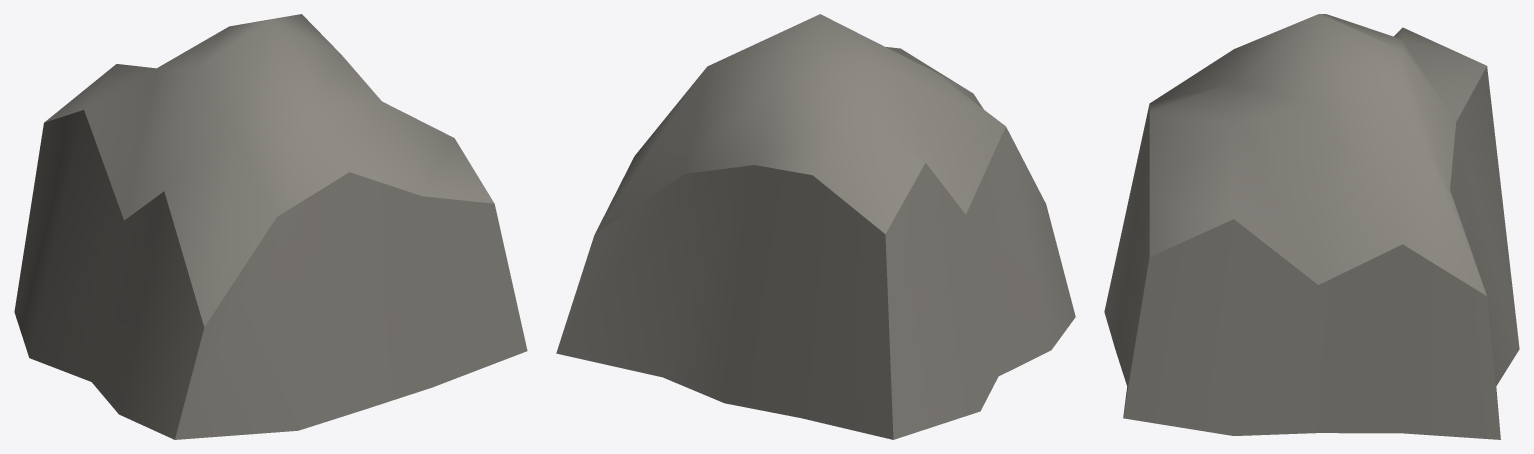
Rendered from Rock3.FBX.
3 views of the same model, side by side, from view 1: azimuth 30°, elevation 25°; view 2: azimuth 150°, elevation 25°; view 3: azimuth 270°, elevation 25° (orthographic). The views are drawn at different scales.
Visible parts, largest first — view 1: Box001; view 2: Box001; view 3: Box001.
Boxes of the visible parts, bbox=[...] form: Box001: bbox=[14, 14, 527, 439]; Box001: bbox=[556, 14, 1075, 439]; Box001: bbox=[1104, 14, 1519, 439].
Bounding box in the file's own units: 20.89 × 16.87 × 18.95.
